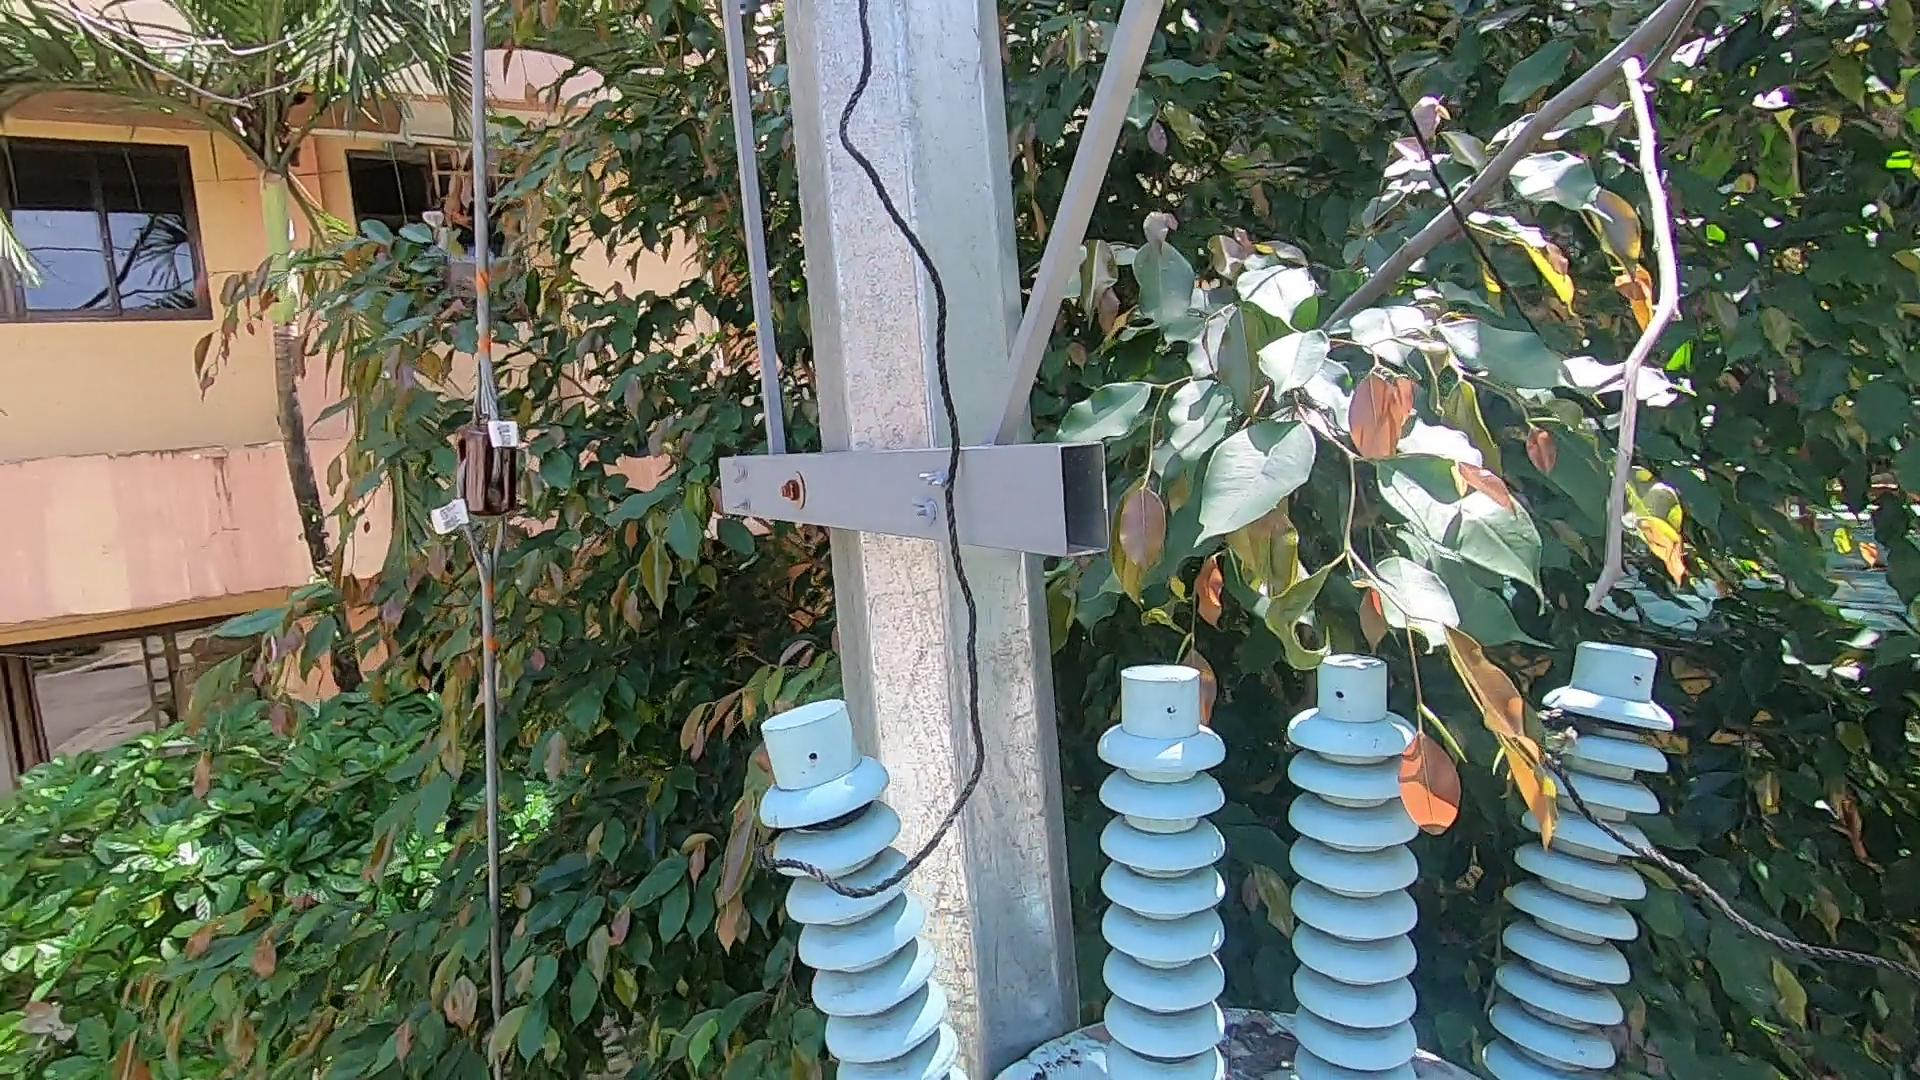tree branch: (1209, 1, 1753, 642)
